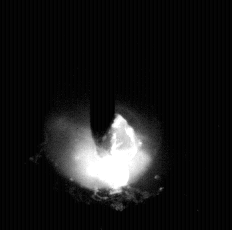arame: (90, 0, 117, 154)
poca: (46, 0, 162, 230)
